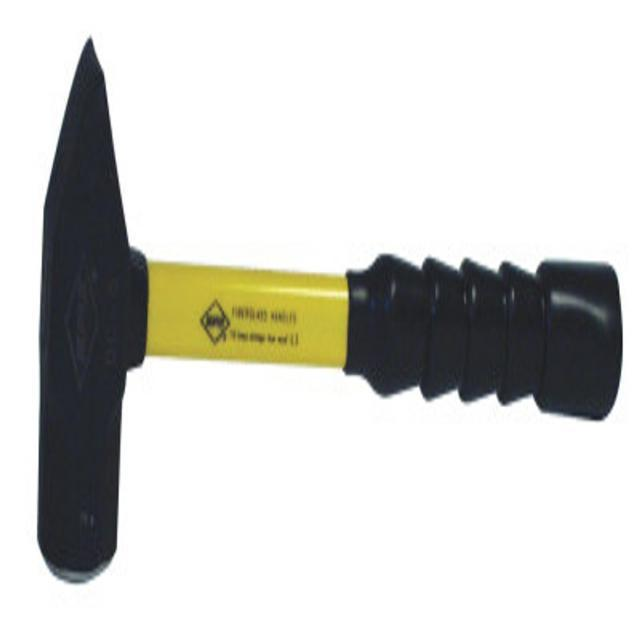hammer: (27, 11, 627, 610)
